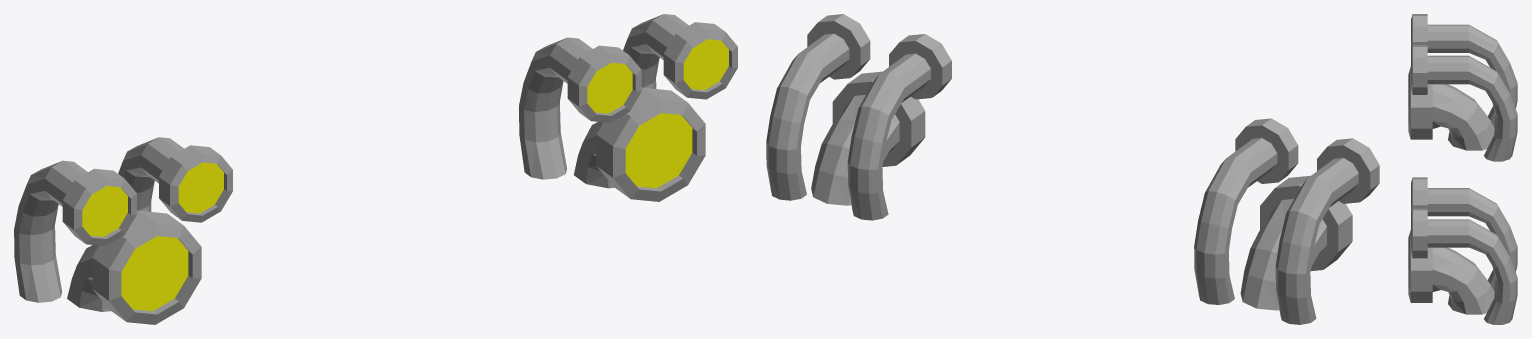
The model's file is Lights_Kart3.obj.
3 renders of one model, left to right at view 1: azimuth 30°, elevation 25°; view 2: azimuth 150°, elevation 25°; view 3: azimuth 270°, elevation 25°, orthographic. The views are drawn at different scales.
Visible parts, largest first — view 1: Lights_Kart3_Cylinder.002; view 2: Lights_Kart3_Cylinder.002; view 3: Lights_Kart3_Cylinder.002.
Boxes of the visible parts, x1,y1,x2,y2 form: Lights_Kart3_Cylinder.002: (14, 14, 737, 324); Lights_Kart3_Cylinder.002: (766, 14, 1379, 324); Lights_Kart3_Cylinder.002: (1408, 14, 1517, 324).
Size of the model in its own units: 5.68 by 1.34 by 1.22.
